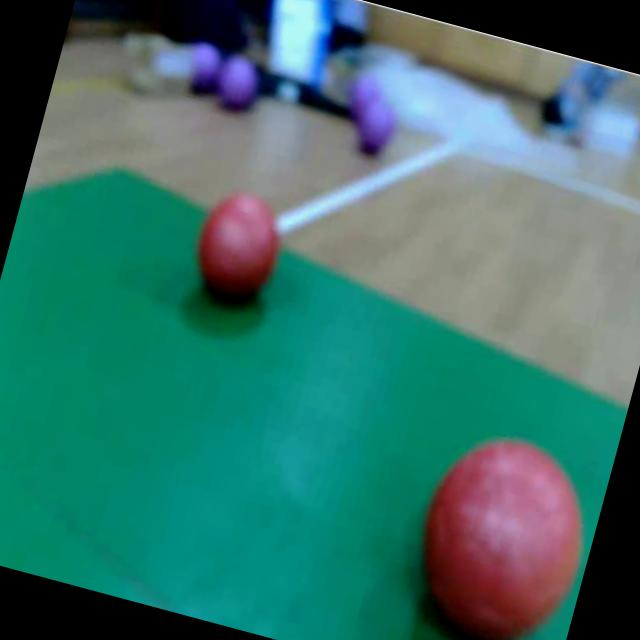purple_ball: (214, 51, 263, 109), (352, 96, 398, 153), (184, 38, 227, 92), (344, 69, 386, 119)
red_ball: (396, 425, 604, 640), (188, 184, 292, 308)
